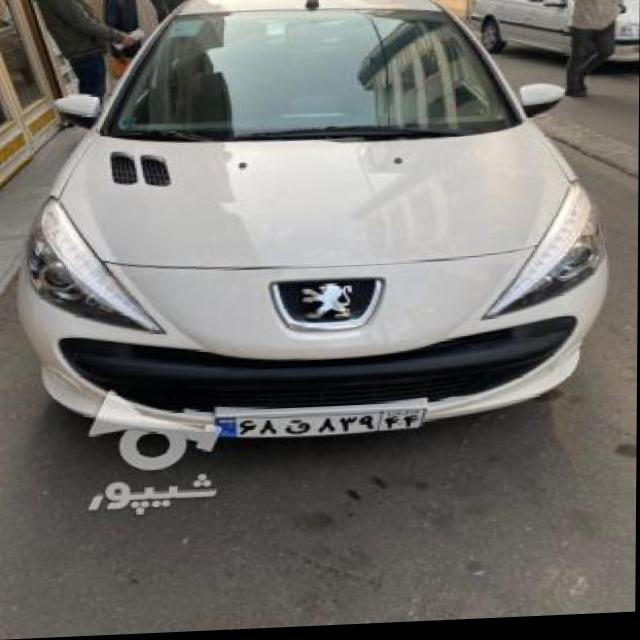licence: (213, 407, 422, 443)
